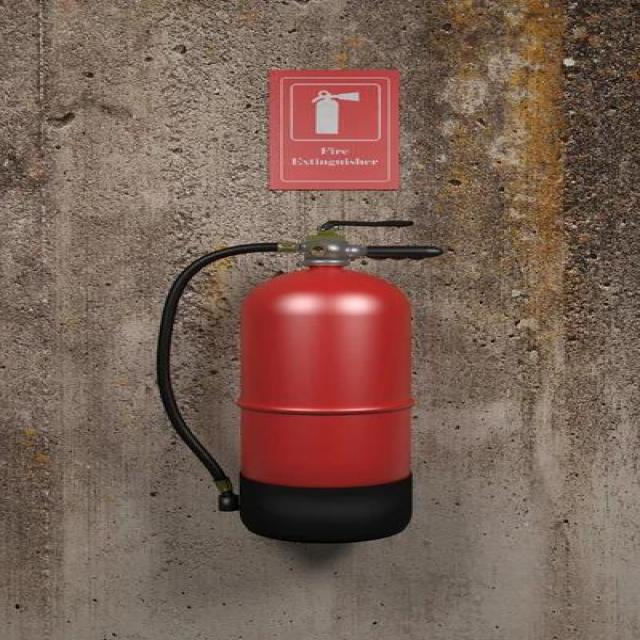fire_extinguisher: (147, 212, 456, 546)
